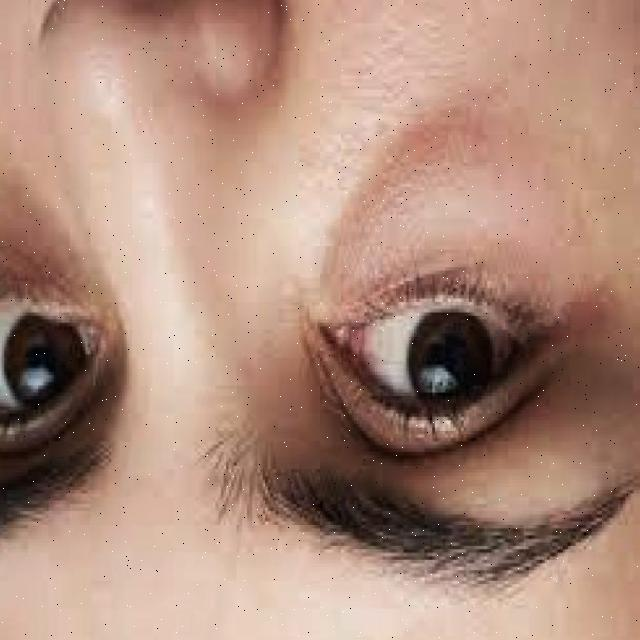puffy_eyes: (332, 94, 571, 307), (0, 176, 91, 324)
